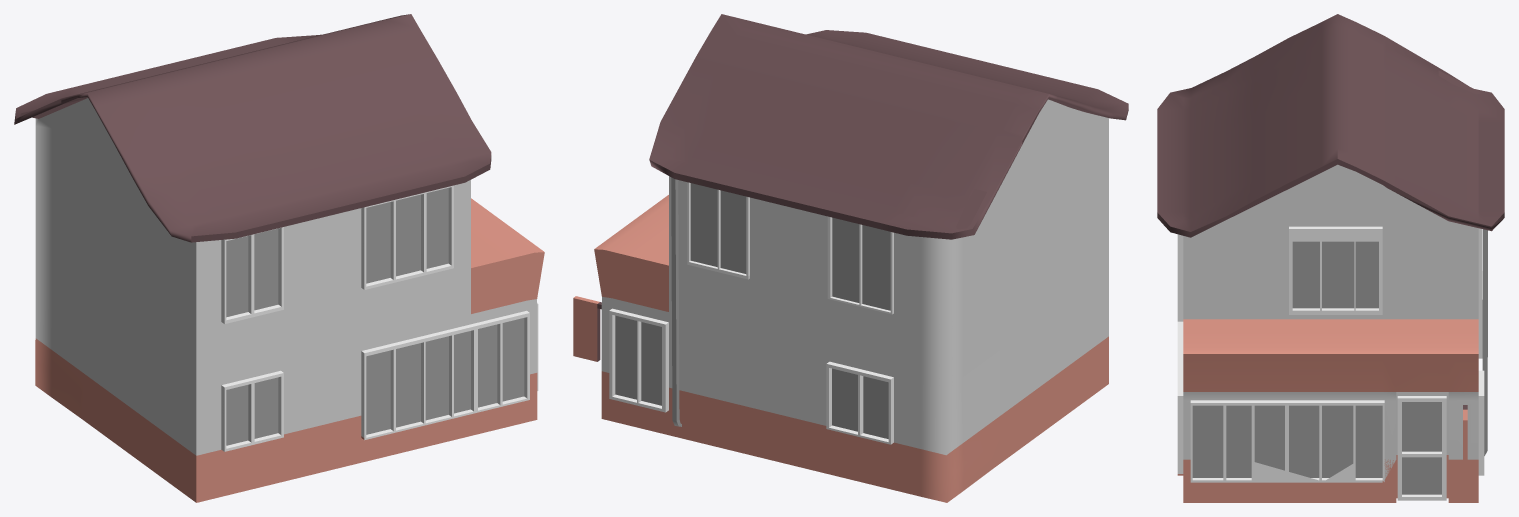
Rendered from supermarket_wanwan.fbx.
The picture shows the model from 3 angles, left to right: view 1: azimuth 30°, elevation 25°; view 2: azimuth 150°, elevation 25°; view 3: azimuth 270°, elevation 25°; orthographic projection. The views are drawn at different scales.
Visible parts, largest first — view 1: pCube1; view 2: pCube1; view 3: pCube1.
Boxes of the visible parts, x1,y1,x2,y2 form: pCube1: (14,14,544,502); pCube1: (573,14,1128,502); pCube1: (1157,14,1504,502).
Bounding box in the file's own units: 18.54 × 15.71 × 15.22.
